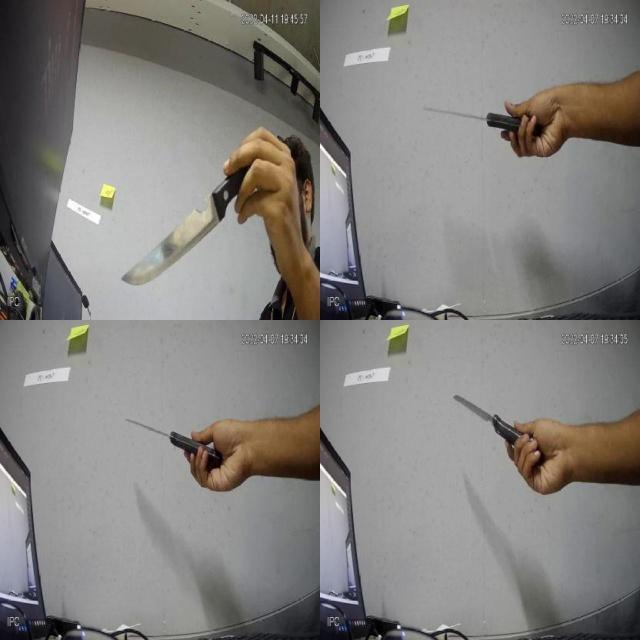-: (122, 186, 227, 282), (425, 95, 548, 149), (119, 410, 226, 469), (452, 395, 522, 446)
